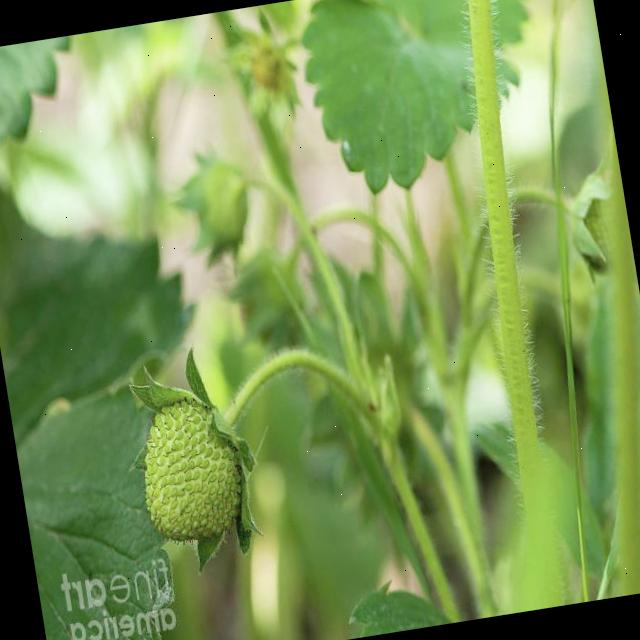strawberry: (132, 396, 249, 546)
